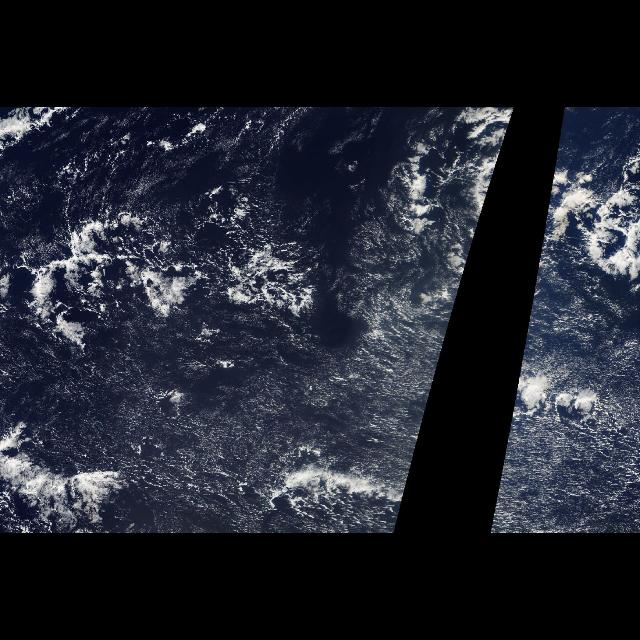Fish: (362, 118, 512, 312), (526, 118, 640, 312)
Gravel: (0, 110, 314, 336)
Sugar: (3, 319, 450, 533), (5, 112, 296, 230), (490, 322, 640, 534)
